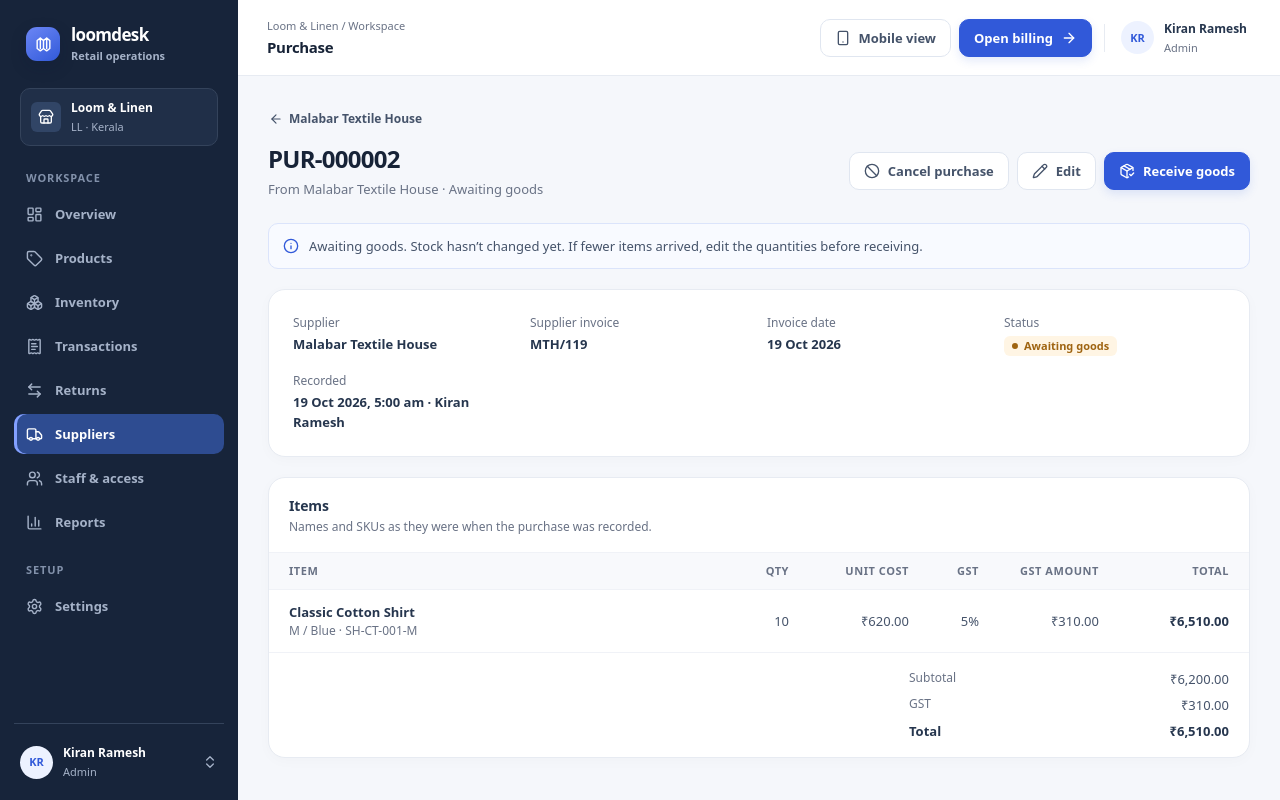
Test: purchase detail and receiving › receives the goods after confirming what will change
Expected: the heading "PUR-000002" is shown, [268,142,400,175]
Expected: the text "Stock hasn’t changed yet" is shown, [309,237,923,255]
Click the button "Receive goods".
click(1177, 171)  # box [1104,152,1250,190]
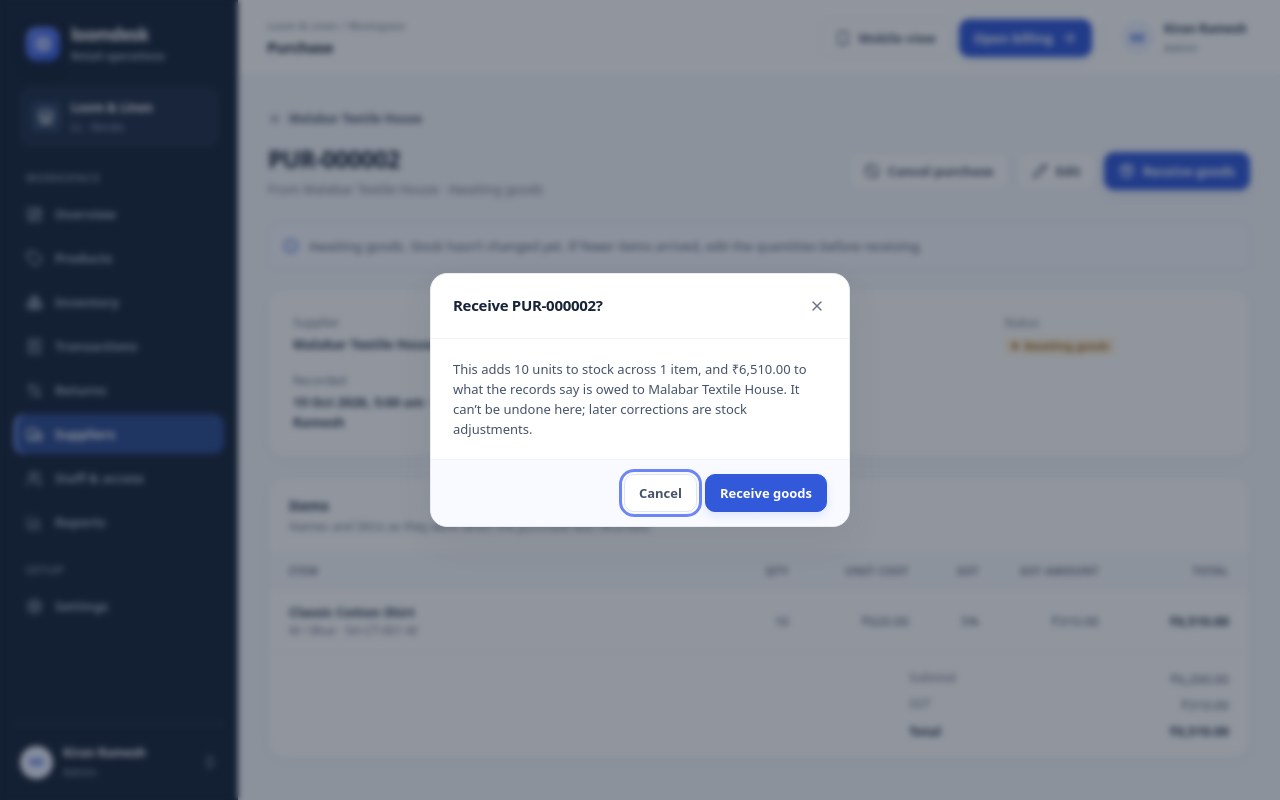
Expected: the text "adds 10 units to stock across 1 item" is shown, [453,360,807,438]
Click the button "Receive goods".
click(766, 493)  # box [705,474,827,512]
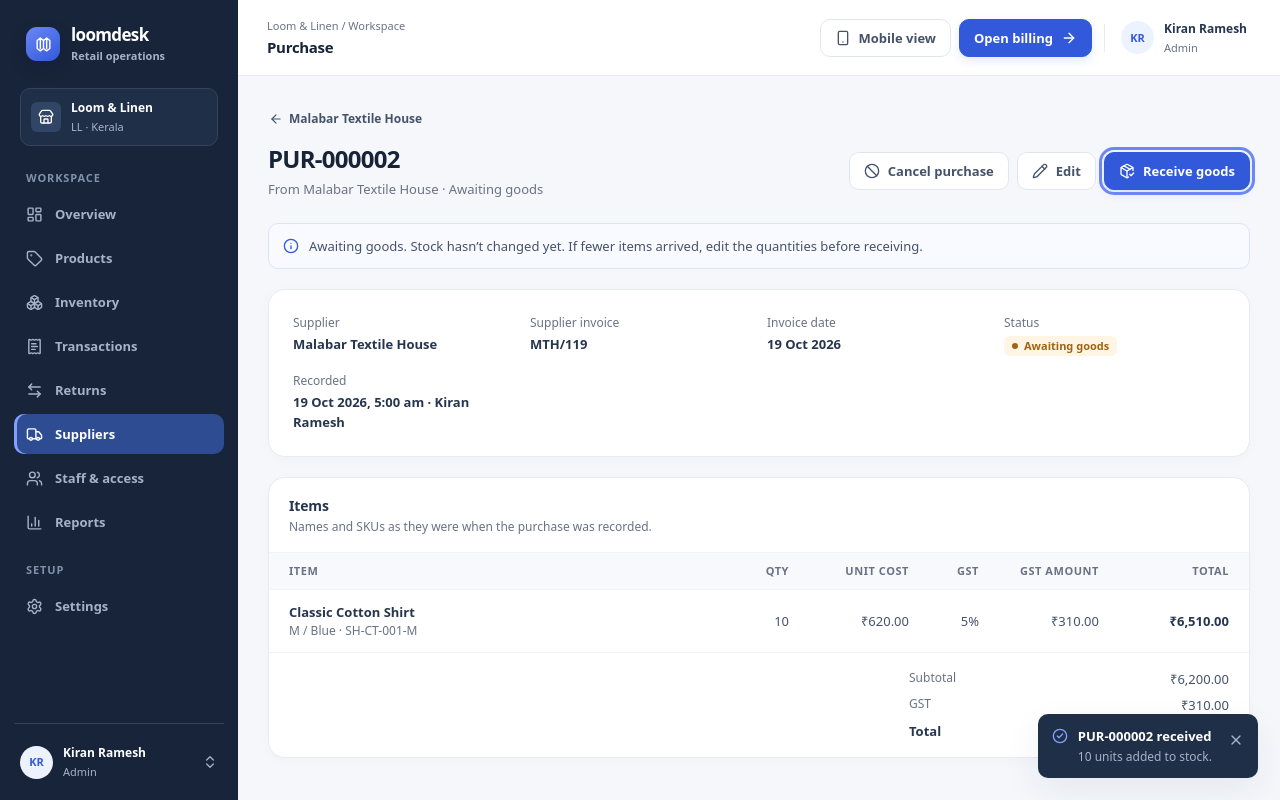
Expected: the text "PUR-000002 received" is shown, [1078,726,1212,746]
